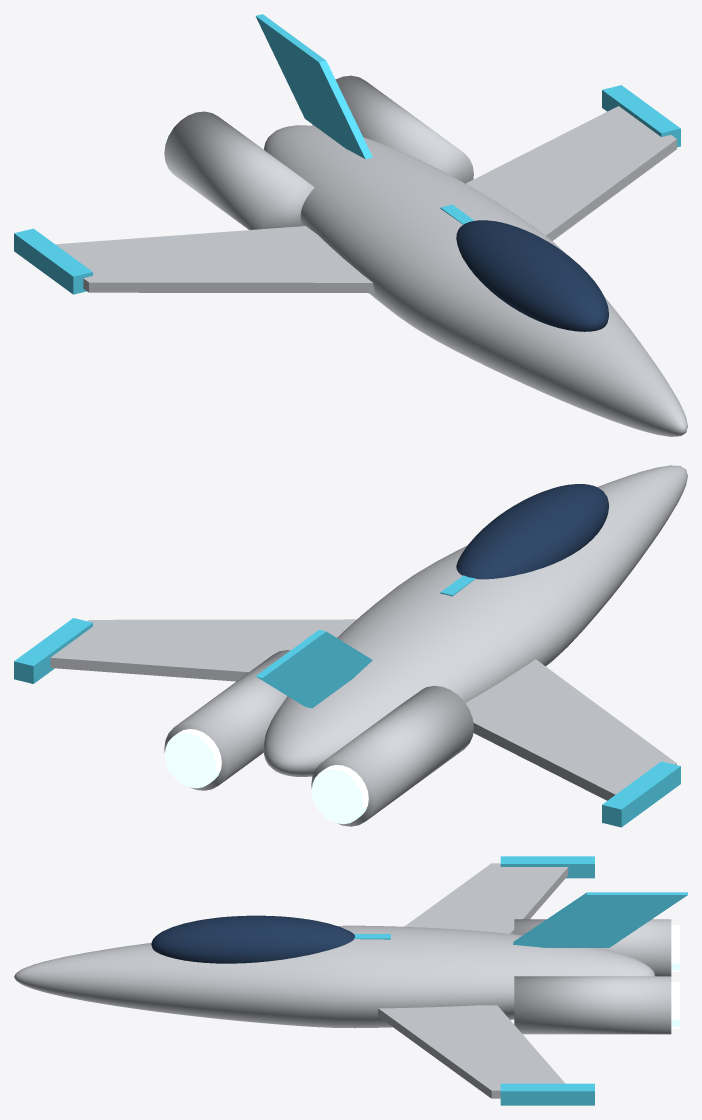
The model's file is racer.glb.
3 views of the same model, one above another, from view 1: azimuth 30°, elevation 25°; view 2: azimuth 150°, elevation 25°; view 3: azimuth 270°, elevation 25° (orthographic). The views are drawn at different scales.
Parts seen in each view (by area): view 1: racer; view 2: racer; view 3: racer.
Part boxes in pixels (x1,y1,x2,y2): racer: (14,14,687,436); racer: (14,465,687,827); racer: (14,856,687,1105).
Bounding box in the file's own units: 1.24 × 0.3046 × 1.5.
